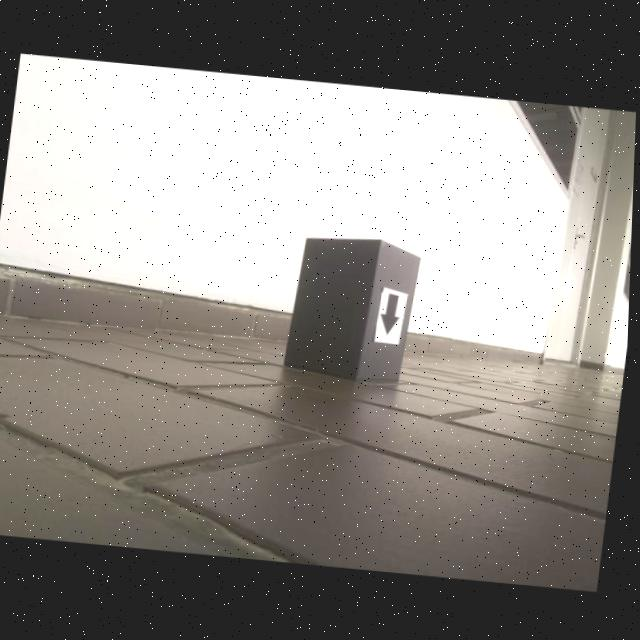DOWN: (382, 293, 403, 335)
